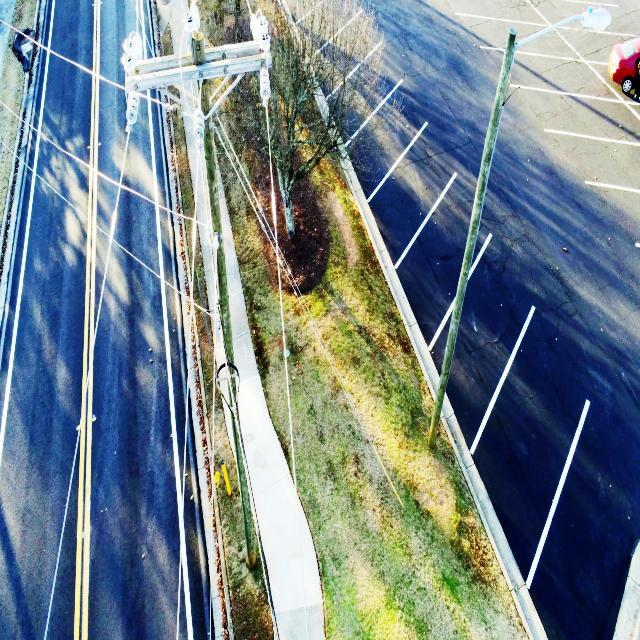poles: (121, 0, 272, 311), (228, 413, 260, 568), (214, 251, 234, 371), (158, 0, 185, 34)
wires: (260, 78, 297, 500)
